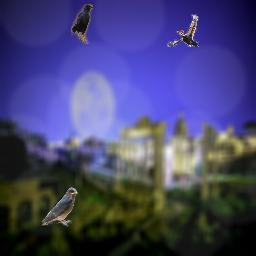Crow: (71, 4, 93, 44)
Swallow: (41, 187, 78, 227)
Woodpecker: (167, 13, 199, 47)
